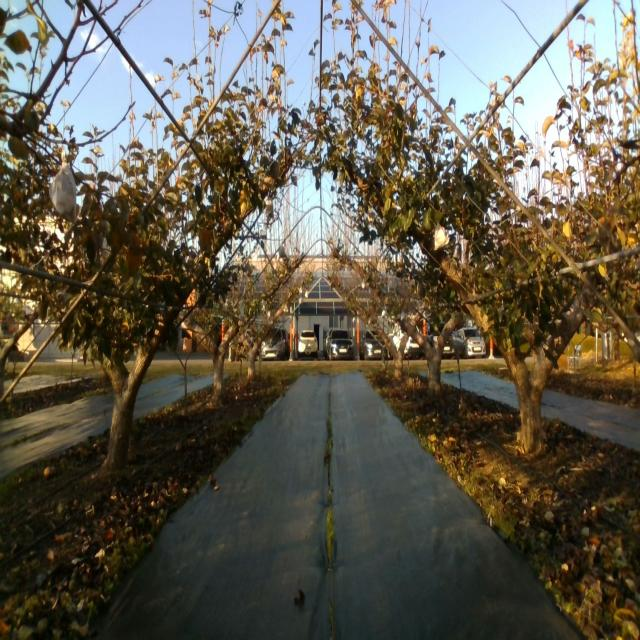pearbags: (48, 161, 77, 223), (434, 224, 449, 251), (263, 196, 274, 219)
